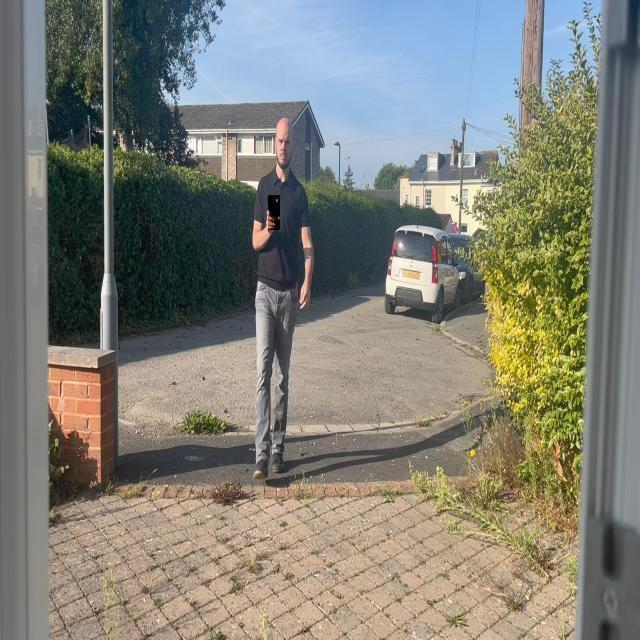lens: (276, 199, 278, 202)
phone: (269, 195, 281, 230)
